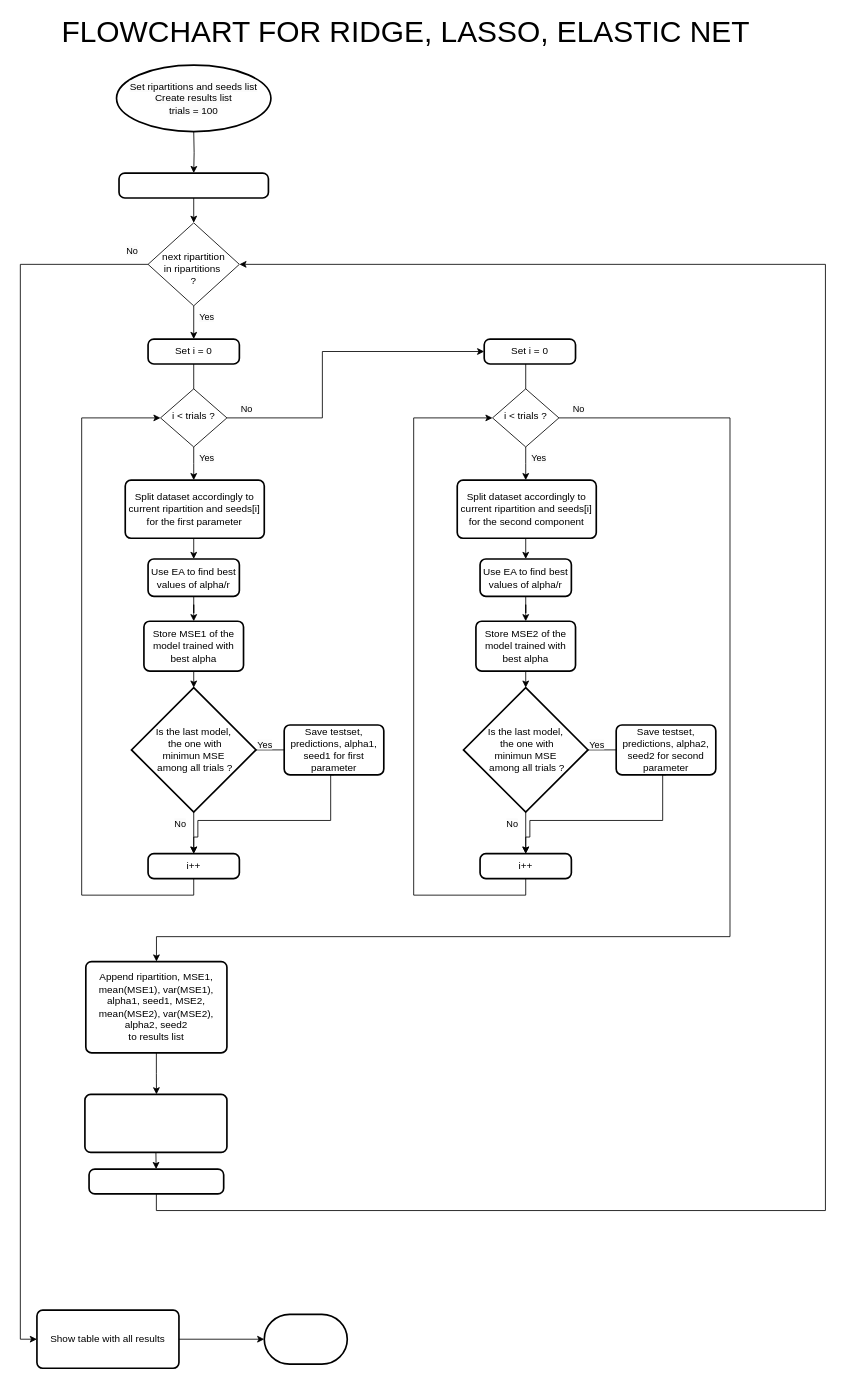
This 847x1384 diagram has some shape labels left out. Each missing label, with the box of its shape:
END: (263, 1313, 348, 1365)
Get next ripartition: (88, 1168, 224, 1194)
next ripartition = first ripartition: (118, 172, 269, 198)
Plot "predicted vs actual" for both the models and current ripartition: (84, 1093, 227, 1153)
